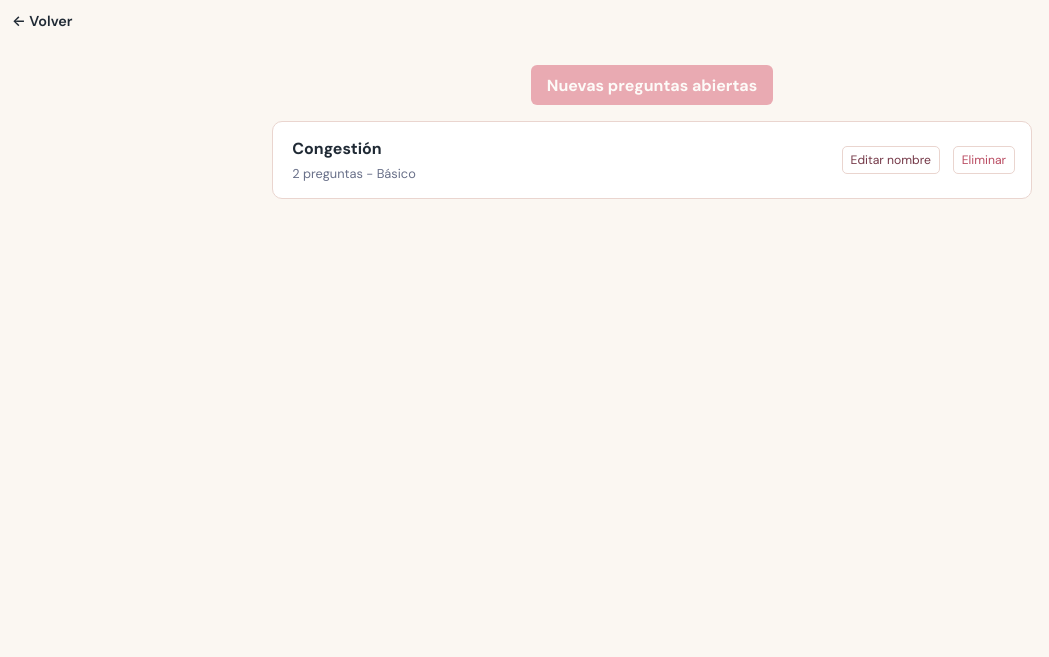
OpenQuestionsPage › si el envío falla, reenviar la misma respuesta reusa el mismo intento
Click the button "Congestión 2 preguntas - Básico" at (337, 149), box 289,135 -> 829,185
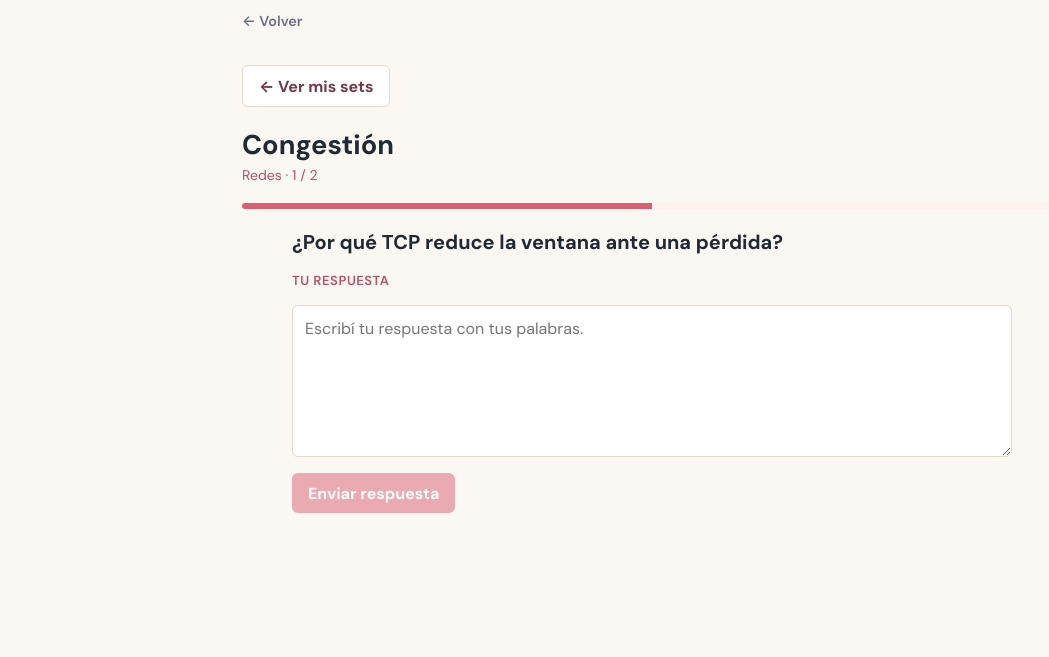
Type "Por la congestión" into the text box labelled "Tu respuesta" at (652, 381), box 292,305 -> 1012,457
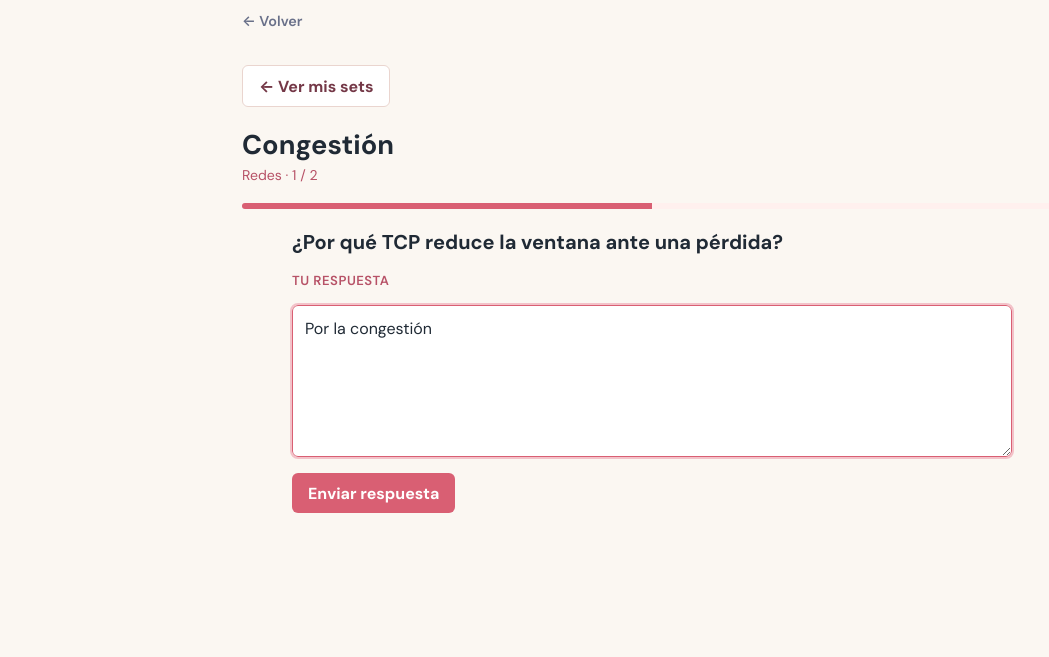
Click the button "Enviar respuesta" at (374, 493), box 292,473 -> 455,513
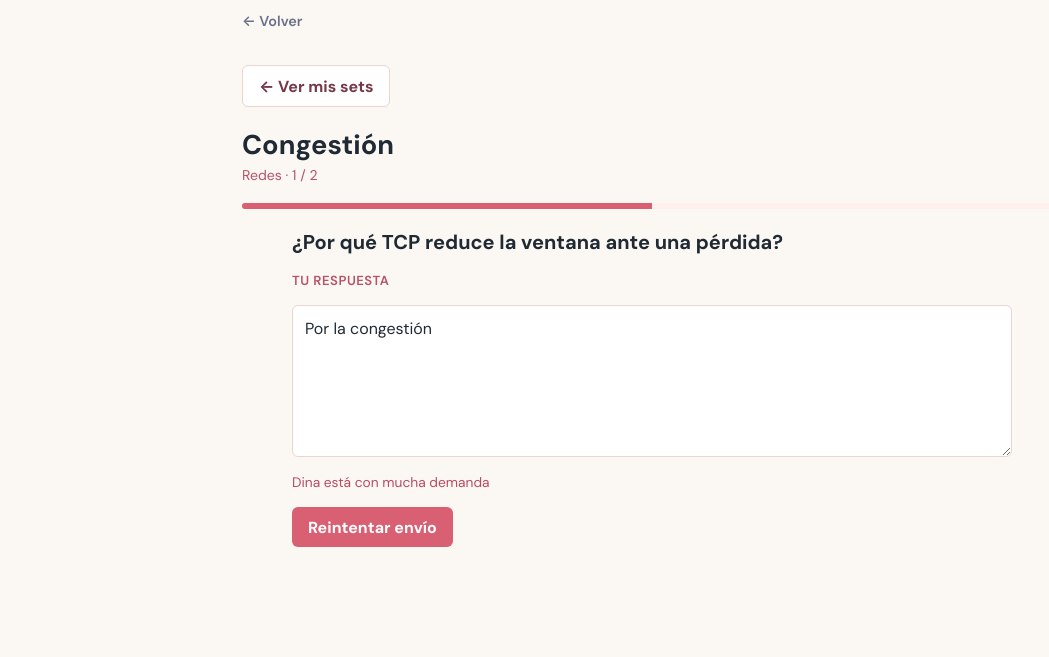
Expected: the text "Dina está con mucha demanda" is shown, 292,473 -> 490,491
Click the button "Reintentar envío" at (372, 527), box 292,507 -> 453,547
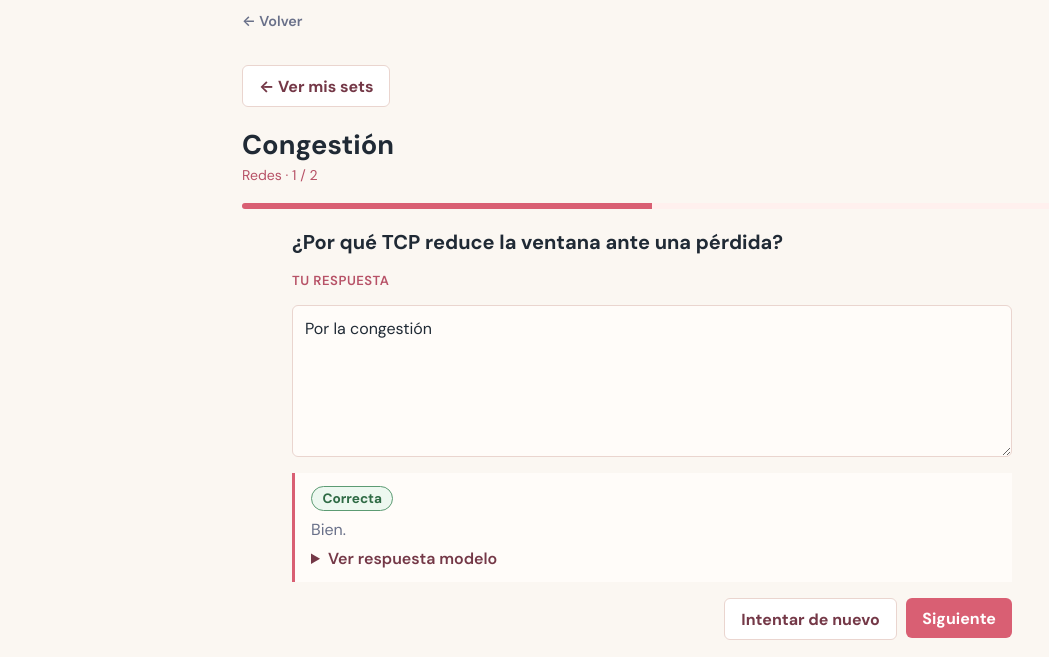
Expected: the text "Correcta" is shown, 311,486 -> 393,511
